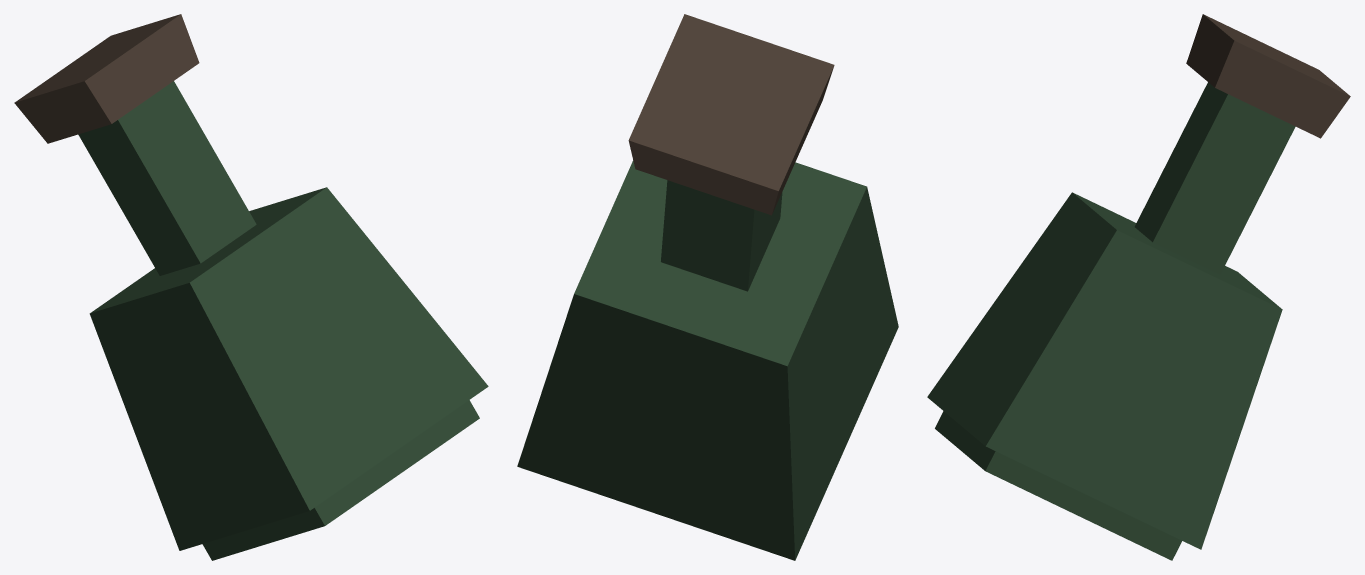
File: potion_bottle_with_anim_loop.fbx
3 renders of one model, left to right at view 1: azimuth 30°, elevation 25°; view 2: azimuth 150°, elevation 25°; view 3: azimuth 270°, elevation 25°, orthographic. The views are drawn at different scales.
Visible parts, largest first — view 1: pCube18; view 2: pCube18; view 3: pCube18.
Boxes of the visible parts, x1,y1,x2,y2 form: pCube18: [14, 14, 488, 560]; pCube18: [517, 14, 898, 560]; pCube18: [927, 14, 1350, 560].
Bounding box in the file's own units: 0.3098 × 0.484 × 0.379.
